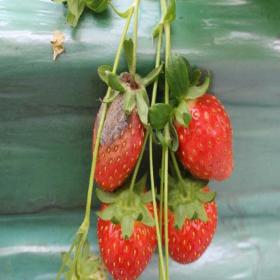Gray Mold: (93, 92, 134, 148)
